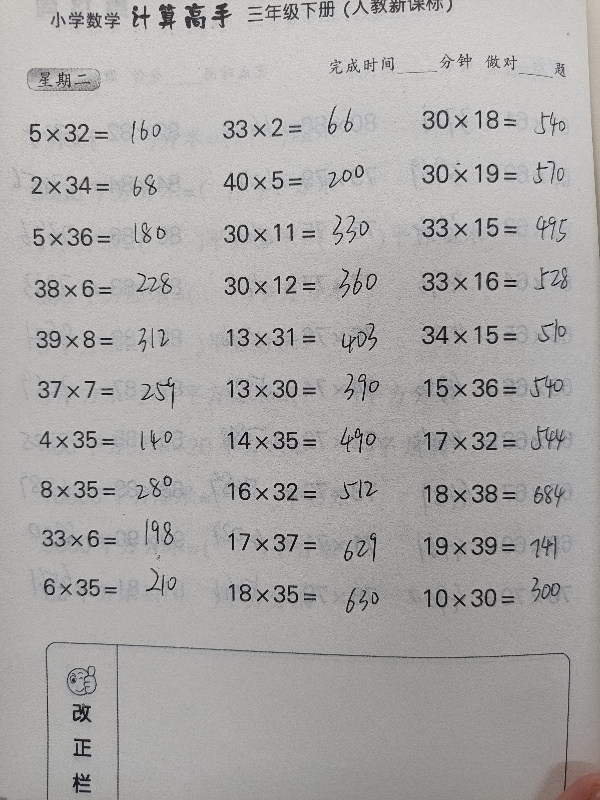equation: (416, 368, 596, 406), (413, 154, 593, 191), (415, 475, 595, 511), (415, 528, 595, 563), (414, 264, 594, 299), (414, 210, 594, 245), (214, 110, 394, 145), (414, 102, 594, 137), (401, 581, 581, 615), (220, 576, 400, 610), (219, 525, 399, 559), (220, 475, 400, 509), (406, 424, 586, 458), (30, 373, 210, 407), (219, 372, 399, 406), (219, 320, 399, 354), (414, 318, 594, 352), (27, 272, 207, 306), (215, 268, 395, 302), (25, 220, 205, 254), (215, 216, 395, 250), (23, 168, 203, 202), (214, 163, 394, 197), (21, 116, 201, 150), (34, 570, 214, 603), (34, 522, 214, 555), (32, 473, 212, 506), (220, 424, 400, 457), (31, 423, 211, 456), (28, 323, 208, 356)
